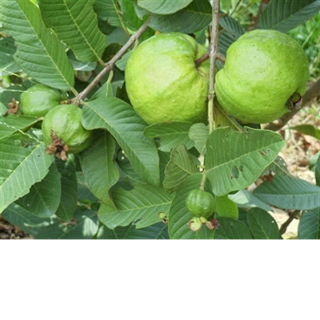oi: (209, 25, 310, 129), (121, 27, 210, 136)
